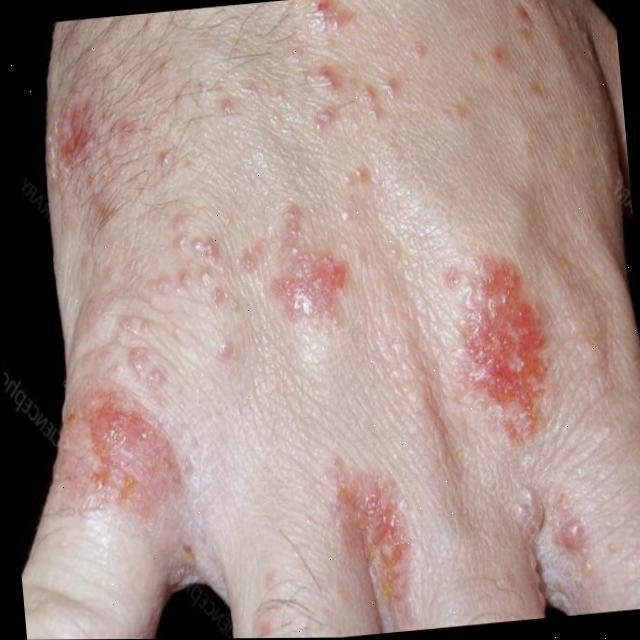Eczema: (34, 0, 600, 567)
